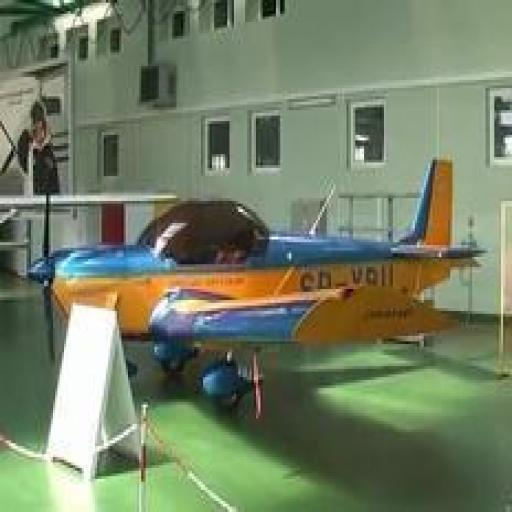aircraft: (25, 155, 489, 408)
